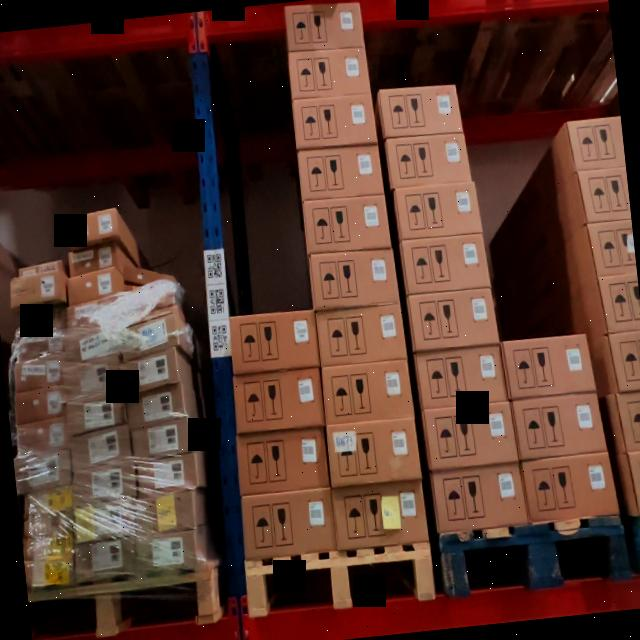box: (512, 390, 610, 461), (333, 480, 431, 550), (240, 488, 336, 558), (524, 451, 618, 522), (432, 463, 526, 532), (321, 359, 416, 427), (230, 368, 326, 435), (425, 401, 518, 469), (236, 428, 329, 494), (328, 418, 420, 484), (308, 246, 401, 310), (318, 302, 409, 367), (505, 334, 595, 399), (230, 308, 320, 373), (417, 346, 508, 410), (392, 180, 484, 242), (409, 287, 498, 351), (400, 233, 490, 295), (288, 92, 378, 152), (305, 192, 392, 254), (383, 130, 472, 188), (300, 143, 386, 203), (284, 44, 370, 101), (380, 84, 462, 140), (282, 0, 363, 53), (568, 117, 626, 172), (128, 530, 200, 574), (70, 462, 136, 508), (579, 167, 631, 222), (132, 493, 196, 537), (72, 502, 136, 544), (137, 454, 200, 496), (74, 539, 133, 583), (68, 428, 130, 469), (132, 418, 195, 458), (122, 350, 182, 392), (119, 314, 179, 356), (126, 386, 188, 426), (65, 394, 125, 435), (590, 223, 636, 275), (600, 273, 640, 332), (16, 449, 72, 491), (63, 358, 120, 398), (120, 284, 178, 322), (61, 325, 116, 363), (67, 298, 122, 334), (12, 270, 66, 306), (16, 418, 70, 453), (14, 386, 66, 422), (15, 356, 66, 392), (68, 268, 120, 303), (68, 208, 118, 243), (611, 334, 640, 393), (15, 333, 66, 364), (69, 242, 118, 274), (14, 302, 65, 332), (24, 556, 74, 586), (23, 488, 73, 518), (23, 533, 74, 561), (121, 261, 172, 287), (620, 393, 640, 453), (26, 514, 72, 540), (19, 258, 63, 277), (631, 453, 640, 513)
